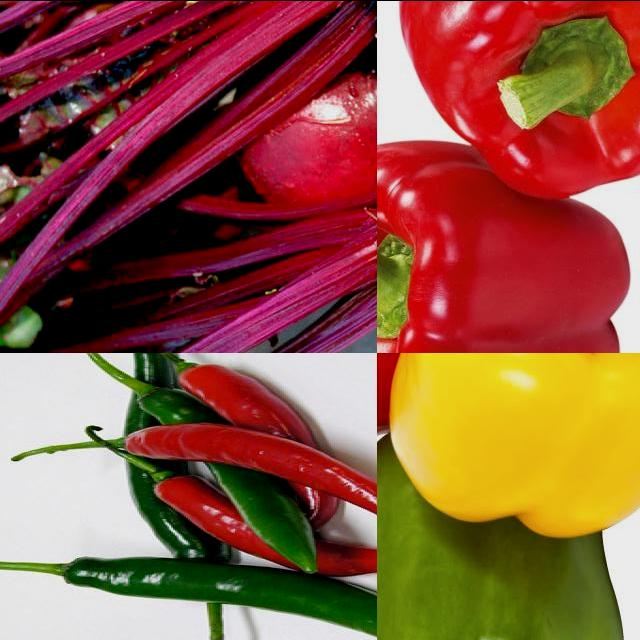beet: (237, 70, 378, 221)
bell_pepper: (378, 141, 634, 353), (378, 437, 622, 640), (400, 1, 640, 198), (389, 353, 640, 537), (378, 353, 586, 445)
